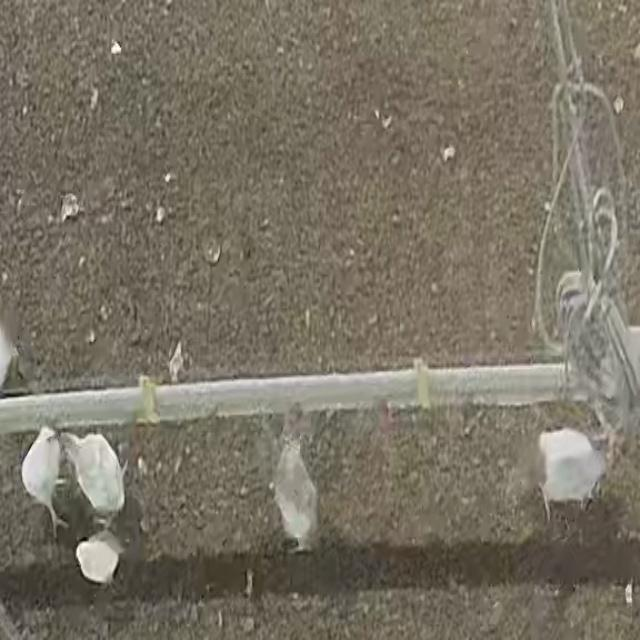chicken: (270, 443, 323, 551), (540, 427, 606, 511), (62, 431, 127, 516), (21, 430, 65, 534), (77, 529, 116, 589)
